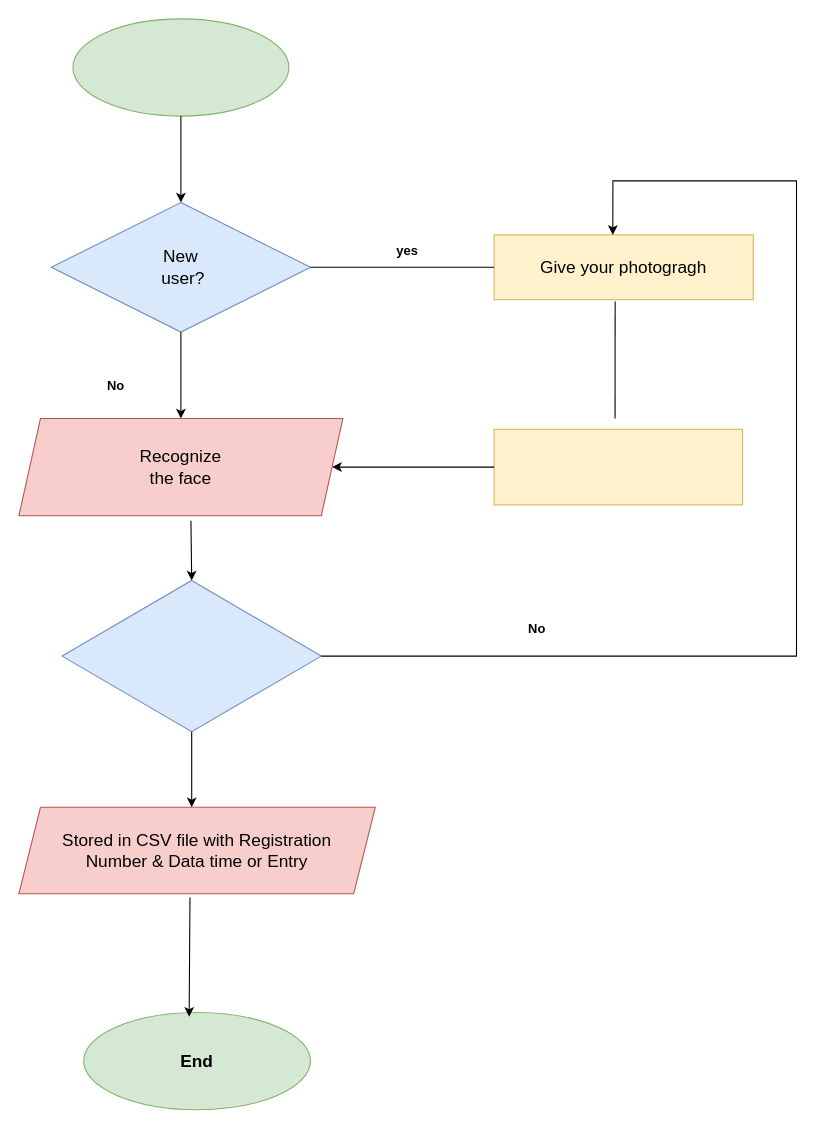
Image size: 824x1129. Some labels were removed from this diagram. Here are the shapes that lost their labels. From the top down, the centre of each, then its label:
At point 180,67: "Start".
At point 617,466: "Store the face data in folder on your name".
At point 191,655: "Face Recognized".
